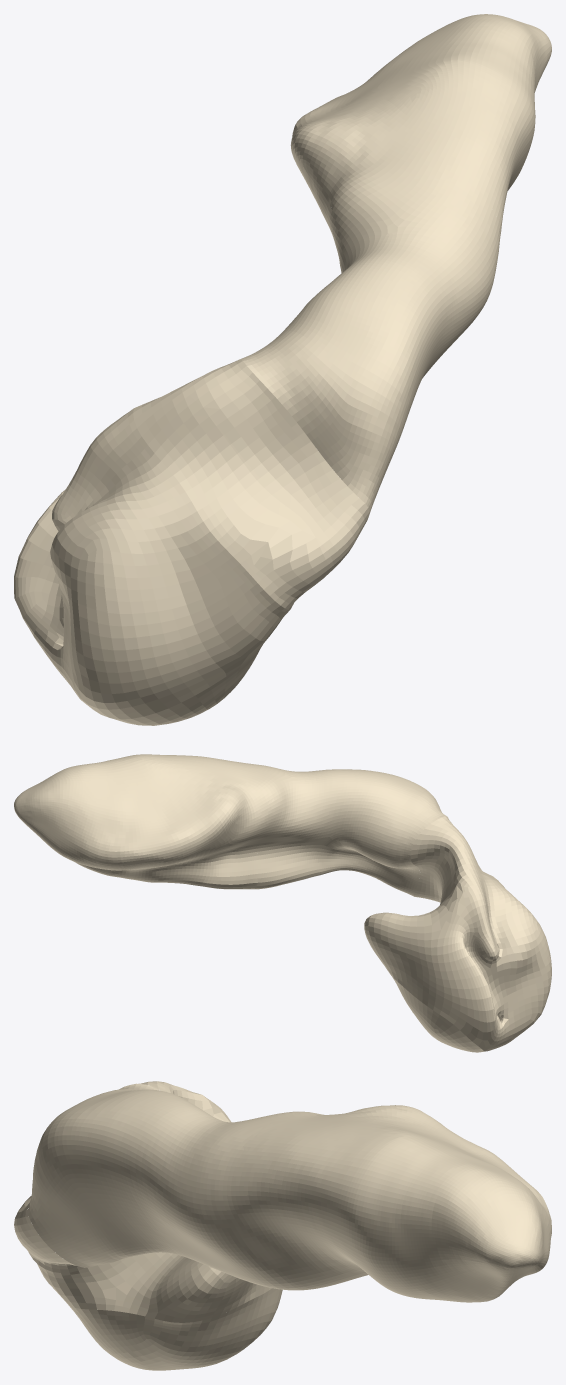
File: pancreas-male.glb
The picture shows the model from 3 angles, top to bottom: view 1: azimuth 30°, elevation 25°; view 2: azimuth 150°, elevation 25°; view 3: azimuth 270°, elevation 25°; orthographic projection. The views are drawn at different scales.
Parts seen in each view (by area): view 1: VH_M_head_of_pancreas, VH_M_body_of_pancreas, VH_M_tail_of_pancreas, VH_M_neck_of_pancreas, VH_M_uncinate_process_of_the_pancreas; view 2: VH_M_tail_of_pancreas, VH_M_head_of_pancreas, VH_M_body_of_pancreas, VH_M_neck_of_pancreas, VH_M_uncinate_process_of_the_pancreas; view 3: VH_M_tail_of_pancreas, VH_M_body_of_pancreas, VH_M_head_of_pancreas, VH_M_uncinate_process_of_the_pancreas, VH_M_neck_of_pancreas.
Part boxes in pixels (left/top/right/bottom): VH_M_head_of_pancreas: left=14, top=388, right=333, bottom=719; VH_M_body_of_pancreas: left=241, top=177, right=500, bottom=515; VH_M_tail_of_pancreas: left=290, top=14, right=551, bottom=235; VH_M_neck_of_pancreas: left=178, top=359, right=369, bottom=569; VH_M_uncinate_process_of_the_pancreas: left=110, top=645, right=262, bottom=725; VH_M_tail_of_pancreas: left=14, top=754, right=271, bottom=889; VH_M_head_of_pancreas: left=364, top=843, right=551, bottom=1051; VH_M_body_of_pancreas: left=242, top=762, right=446, bottom=896; VH_M_neck_of_pancreas: left=410, top=816, right=467, bottom=902; VH_M_uncinate_process_of_the_pancreas: left=391, top=975, right=484, bottom=1052; VH_M_tail_of_pancreas: left=232, top=1105, right=551, bottom=1302; VH_M_body_of_pancreas: left=28, top=1083, right=299, bottom=1289; VH_M_head_of_pancreas: left=14, top=1086, right=271, bottom=1322; VH_M_uncinate_process_of_the_pancreas: left=70, top=1288, right=282, bottom=1370; VH_M_neck_of_pancreas: left=14, top=1081, right=180, bottom=1265.
Bounding box in the file's own units: 0.1114 × 0.072 × 0.0836.
